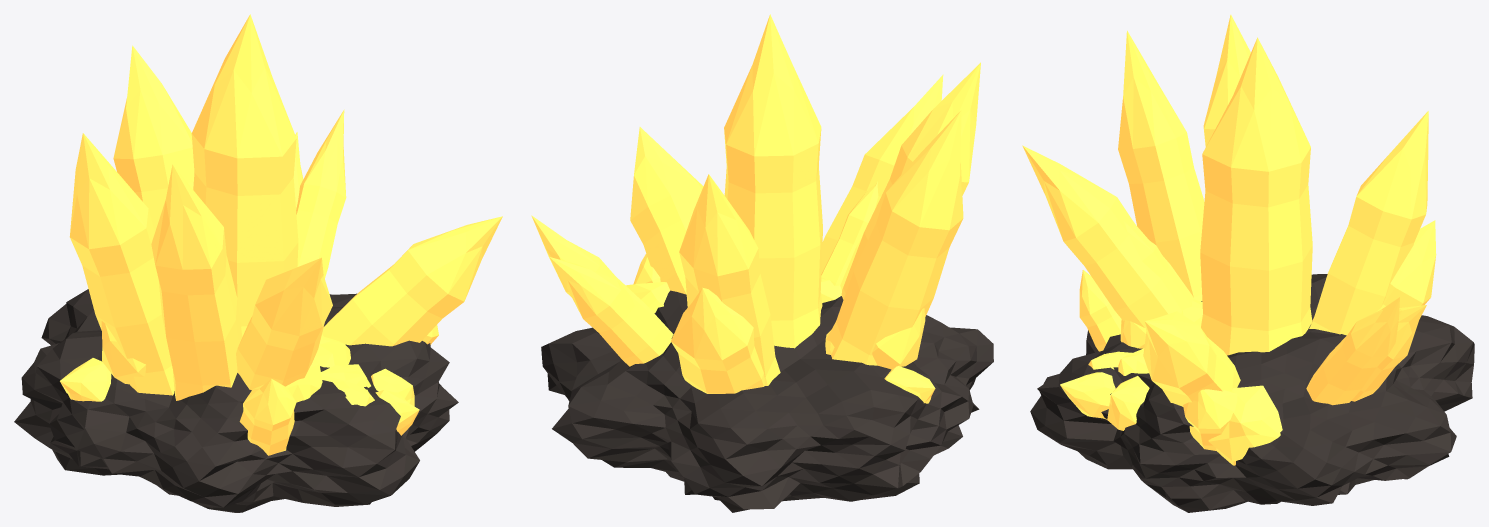
File: wb_crystal_knee.glb
The picture shows the model from 3 angles, left to right: view 1: azimuth 30°, elevation 25°; view 2: azimuth 150°, elevation 25°; view 3: azimuth 270°, elevation 25°; orthographic projection. The views are drawn at different scales.
Visible parts, largest first — view 1: wb_crystal_knee; view 2: wb_crystal_knee; view 3: wb_crystal_knee.
Boxes of the visible parts, left/top/right/bottom form: wb_crystal_knee: left=14, top=14, right=502, bottom=512; wb_crystal_knee: left=531, top=14, right=993, bottom=512; wb_crystal_knee: left=1022, top=14, right=1474, bottom=512.
Size of the model in its own units: 1.29 by 1.44 by 1.36.
